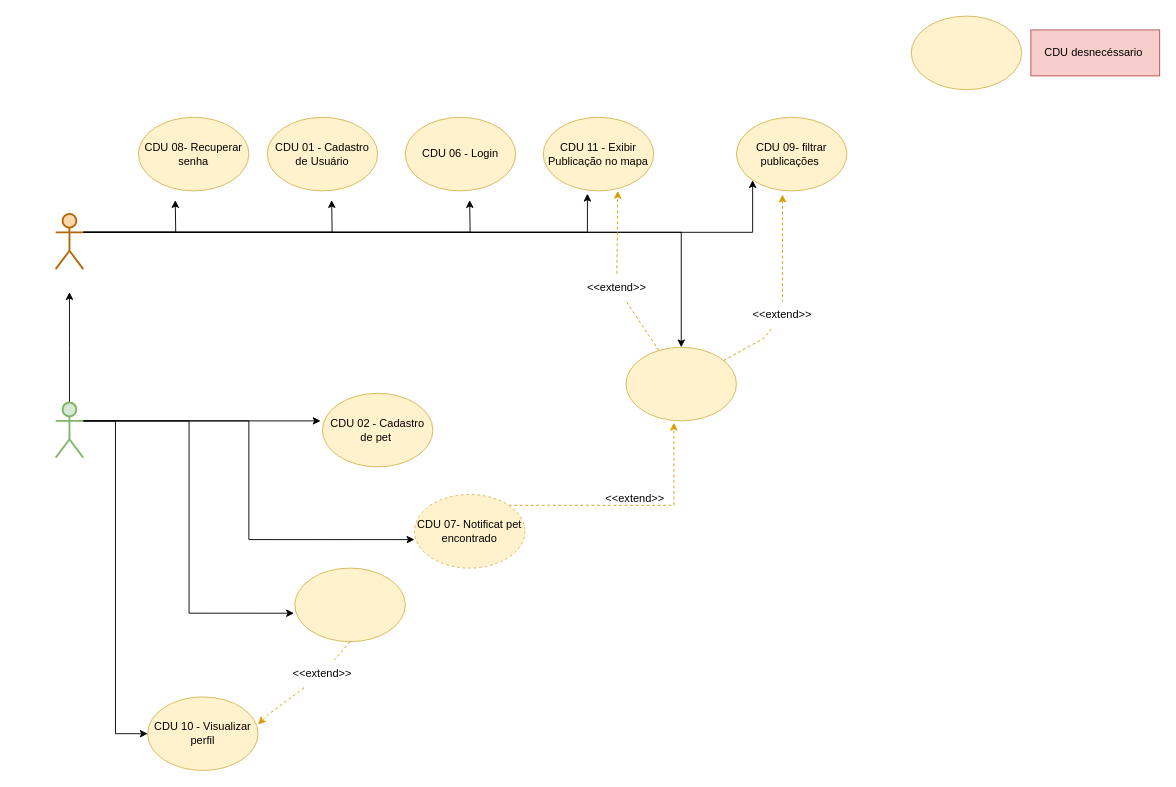
This 1176x787 diagram has some shape labels left out. Here are the shapes that lost their labels. From the top down, the centre of each, then its label:
point (966, 52): CDU 03 - Cadastro de pet encontrado
point (69, 241): Visitante
point (680, 383): CDU 04 - Visualizar publicação do pet
point (69, 429): Usuário
point (349, 604): CDU 05 - Exibir minhas publicações
